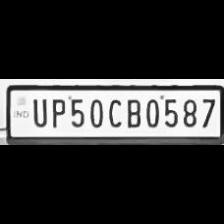0: (86, 96, 104, 128), (142, 96, 160, 127)
5: (66, 96, 86, 128), (160, 94, 178, 128)
7: (198, 94, 216, 128)
8: (179, 96, 197, 128)
B: (122, 96, 142, 128)
C: (104, 94, 122, 128)
P: (47, 96, 65, 128)
U: (28, 95, 48, 127)
